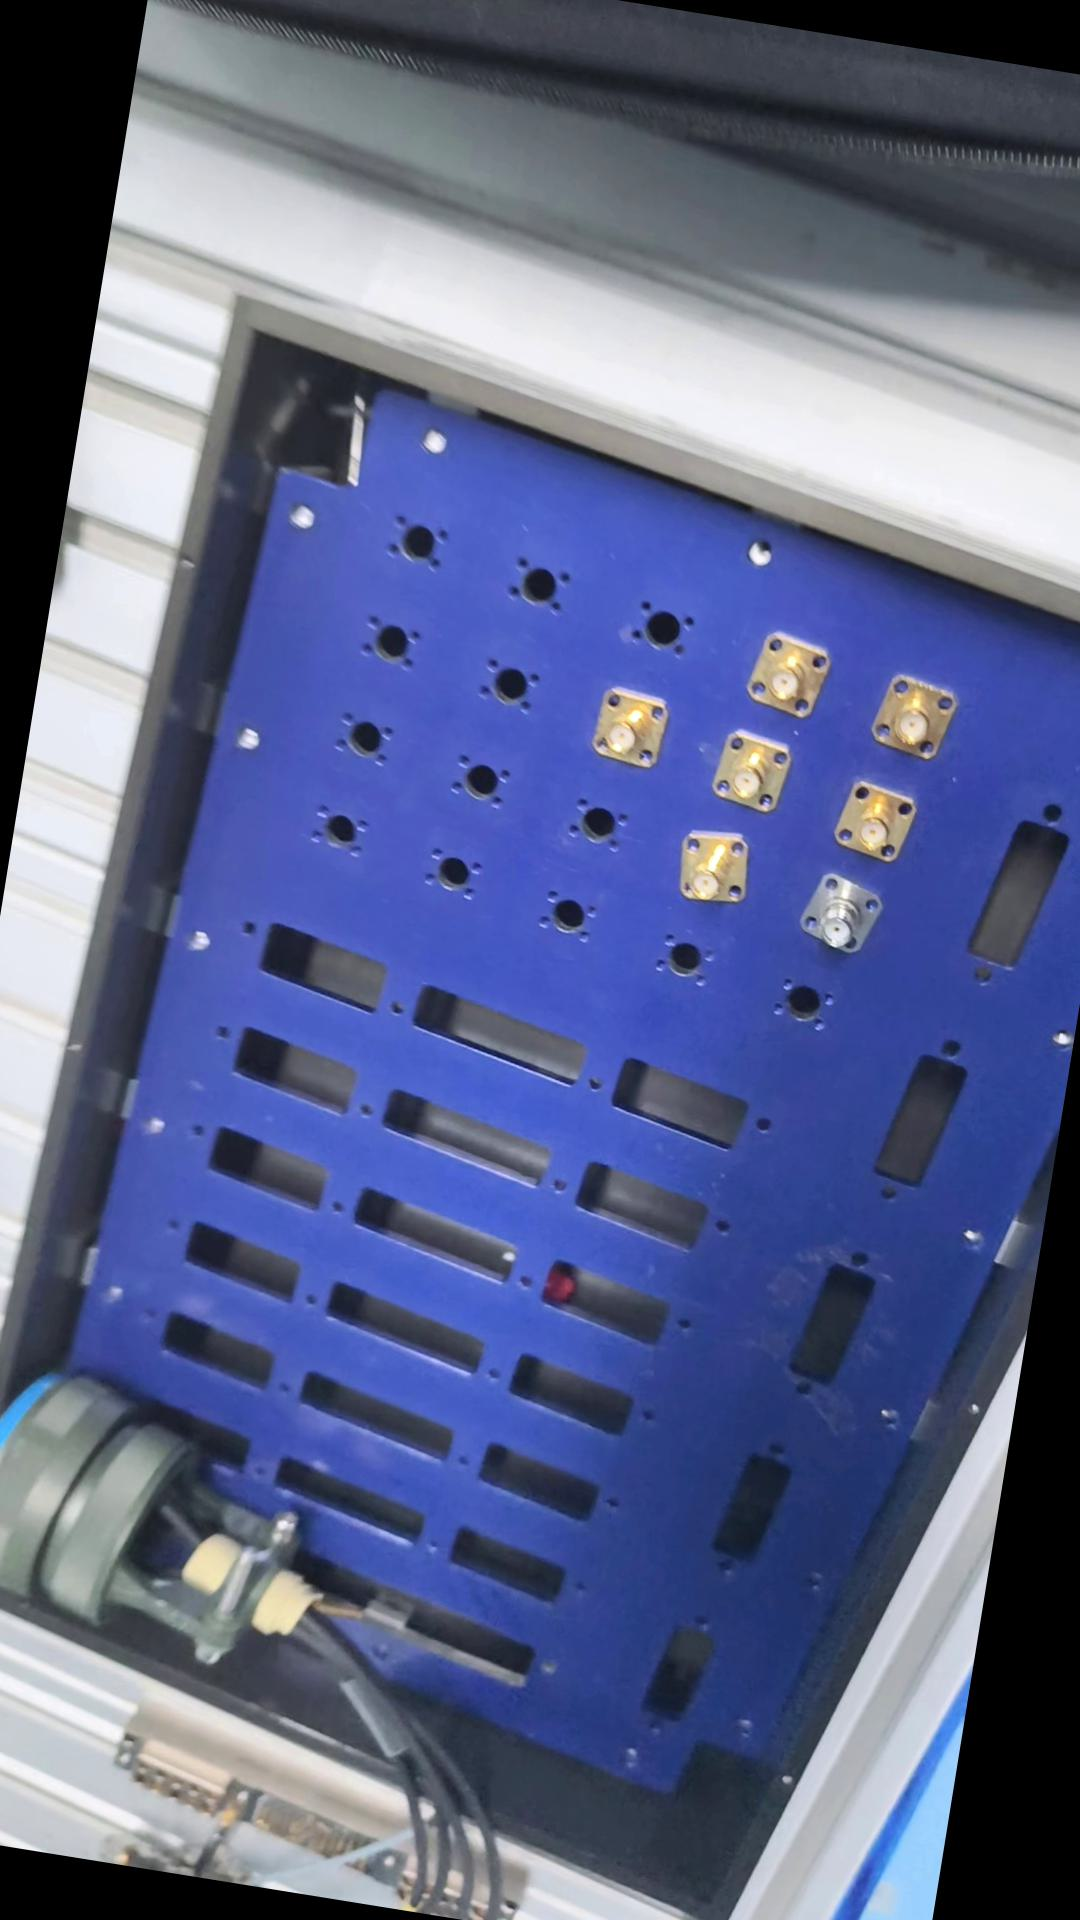SMA: (861, 667, 967, 761), (733, 628, 837, 720), (580, 680, 669, 775), (666, 824, 756, 911), (825, 781, 918, 865), (796, 869, 887, 953), (705, 731, 796, 811)
